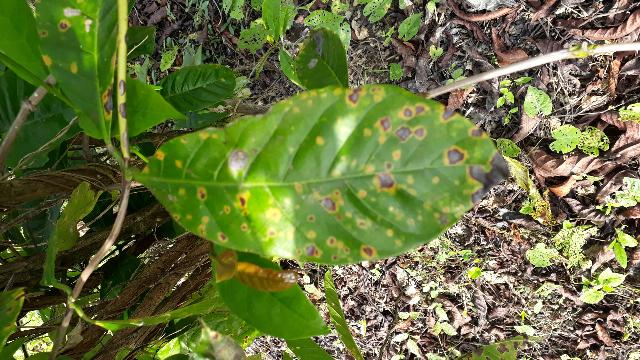rust_level_3: (138, 80, 518, 271)
